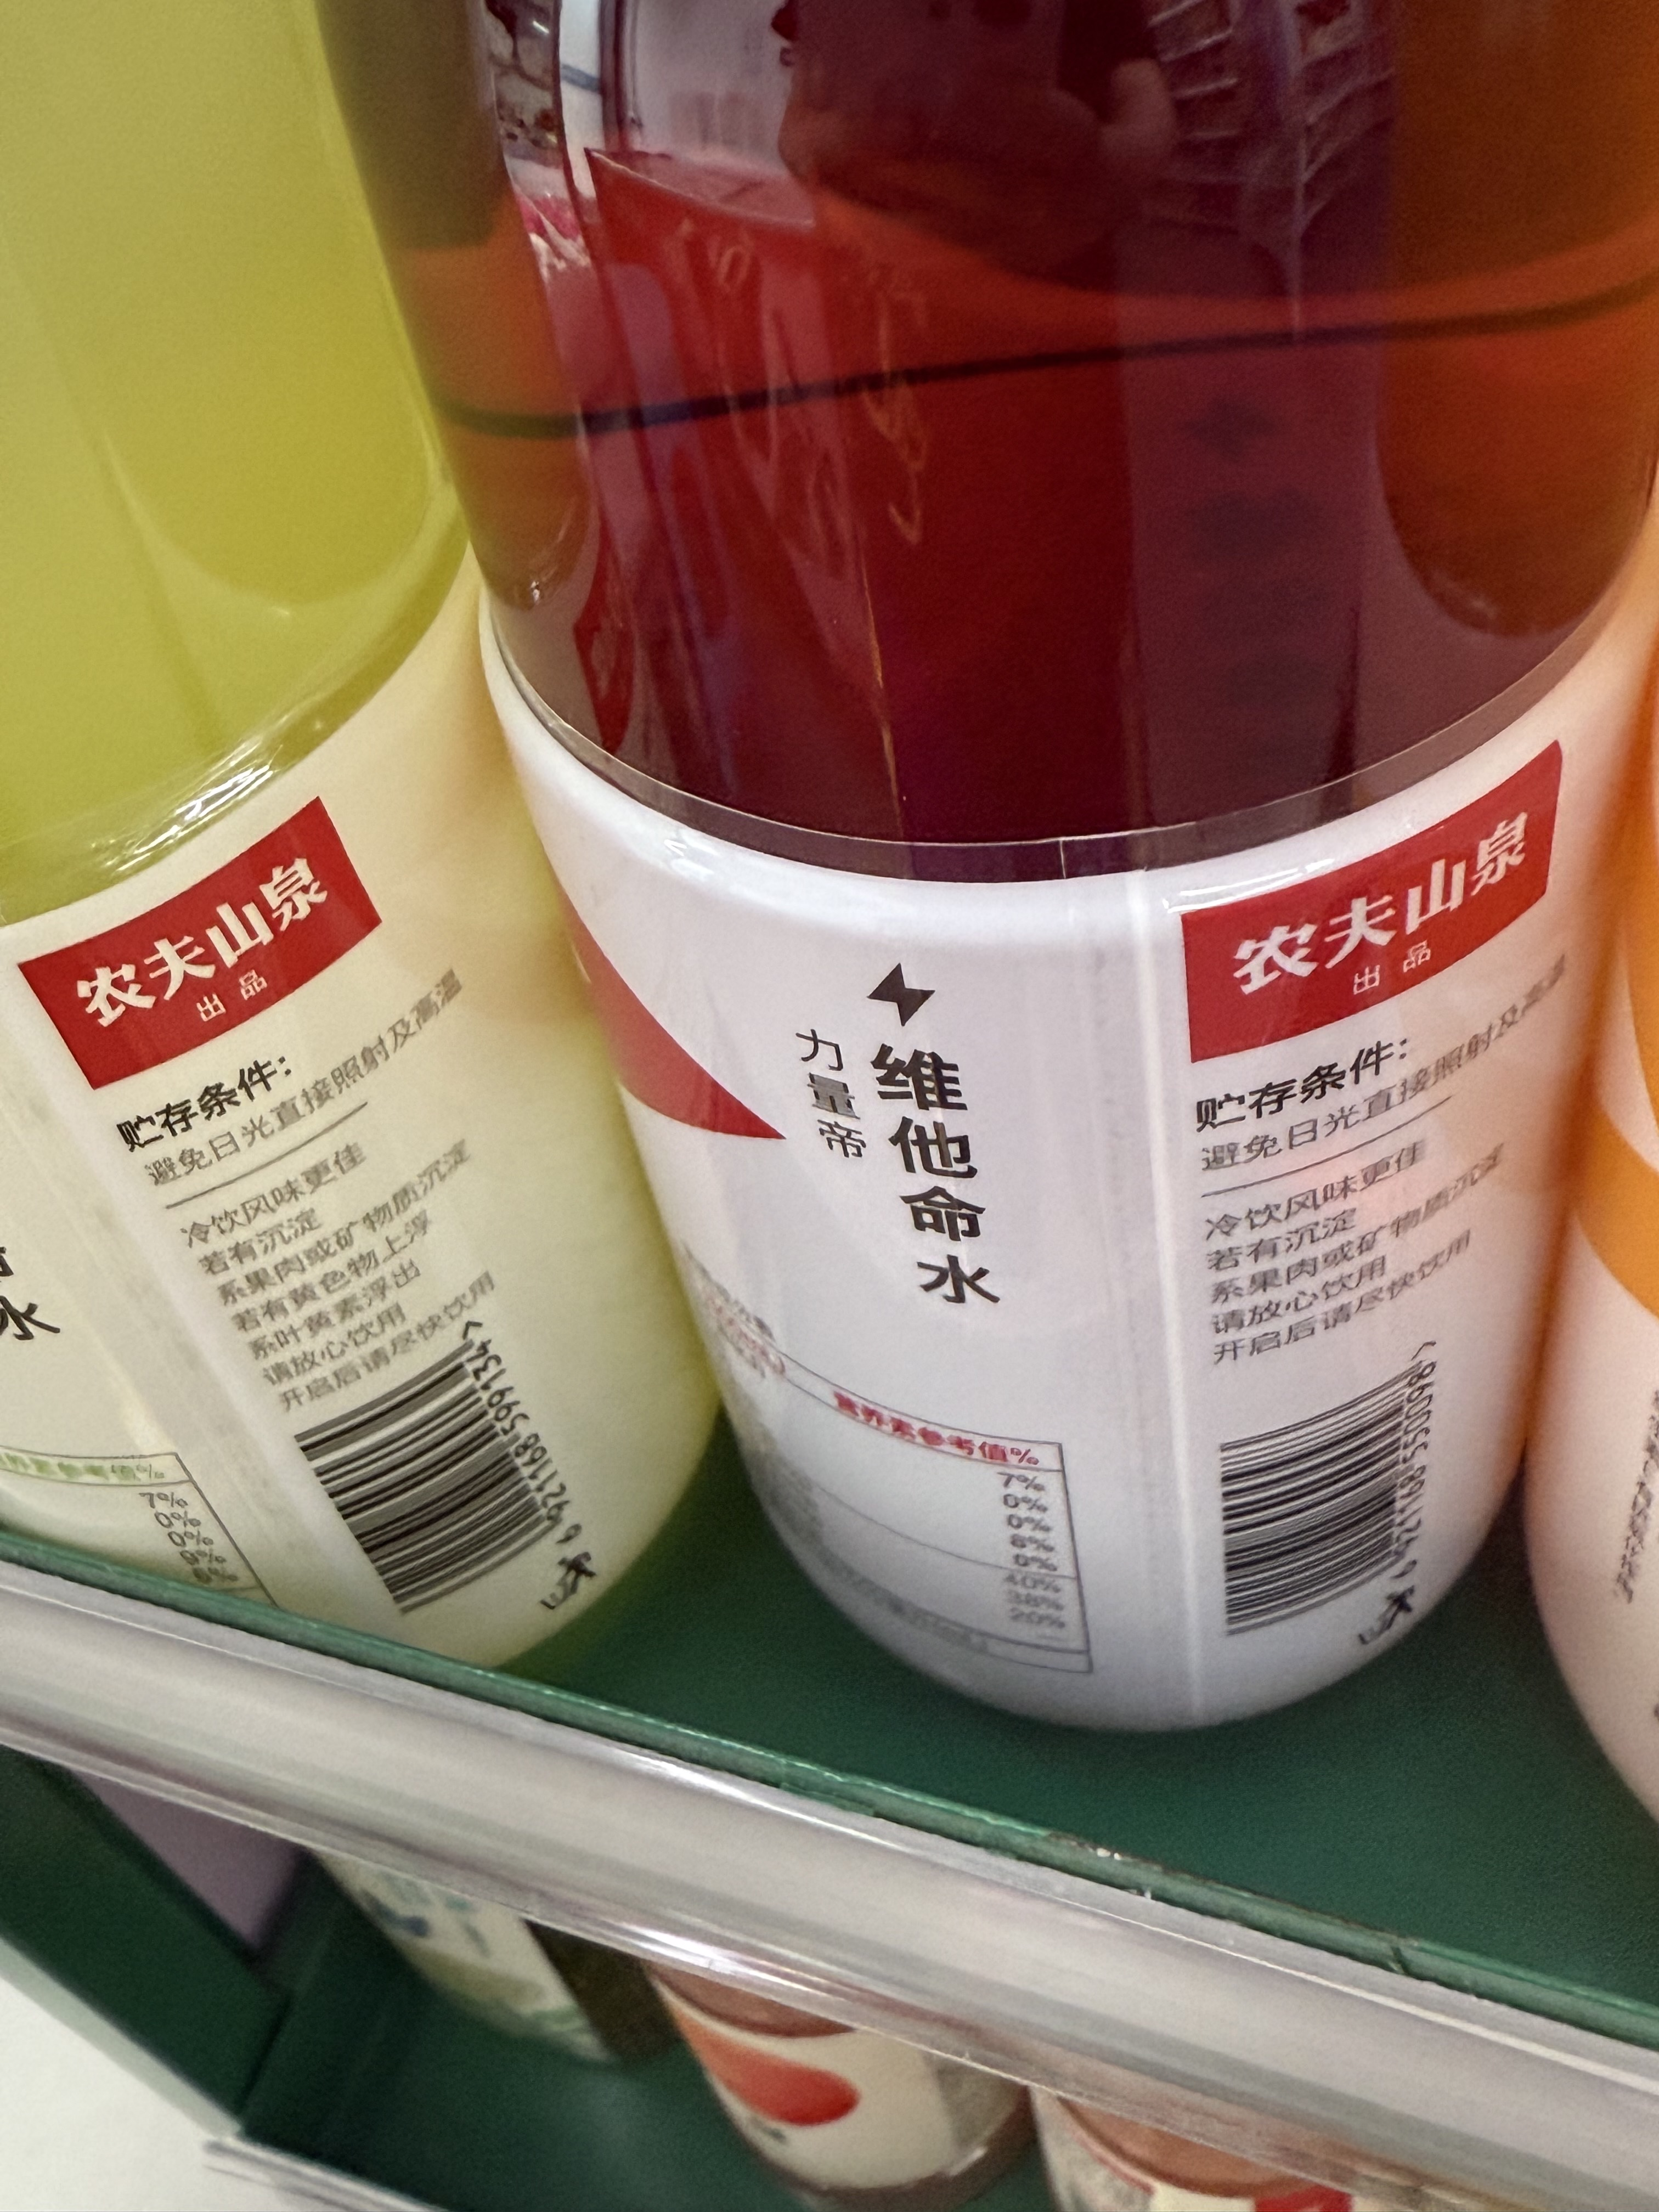bar: (288, 1332, 572, 1623), (1209, 1360, 1417, 1644)
